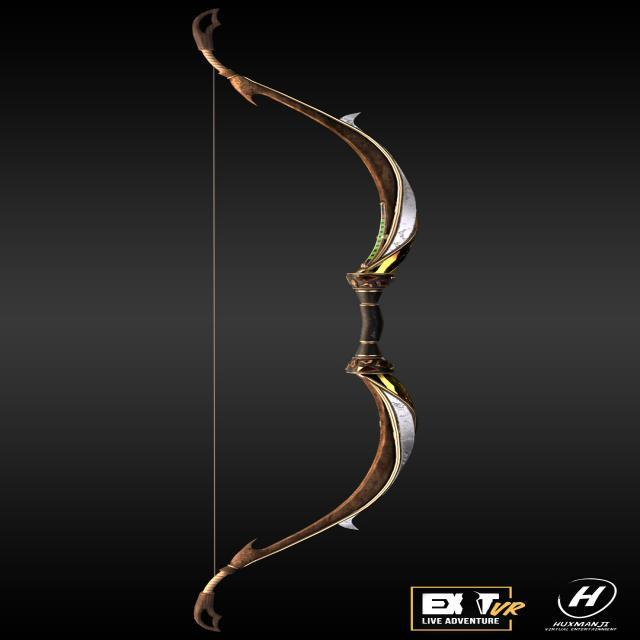bow: (180, 5, 425, 630)
